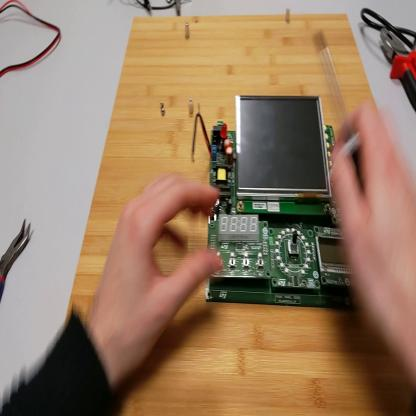hand: (93, 171, 223, 373), (330, 103, 416, 366)
low voltage board: (189, 95, 369, 310)
oscilloscope probe tip: (176, 1, 182, 19)
pliers: (381, 21, 416, 111), (2, 218, 32, 304)
screwdriver-: (316, 34, 368, 201)
working area: (68, 14, 416, 415)
